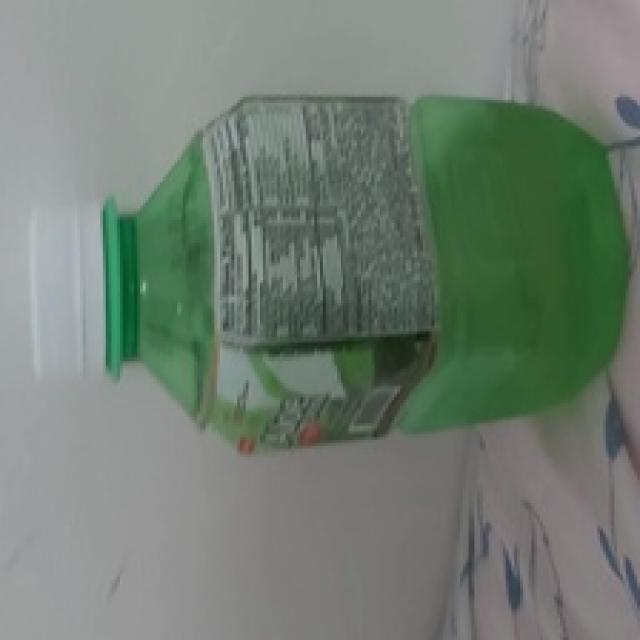Plastic: (27, 87, 634, 450)
